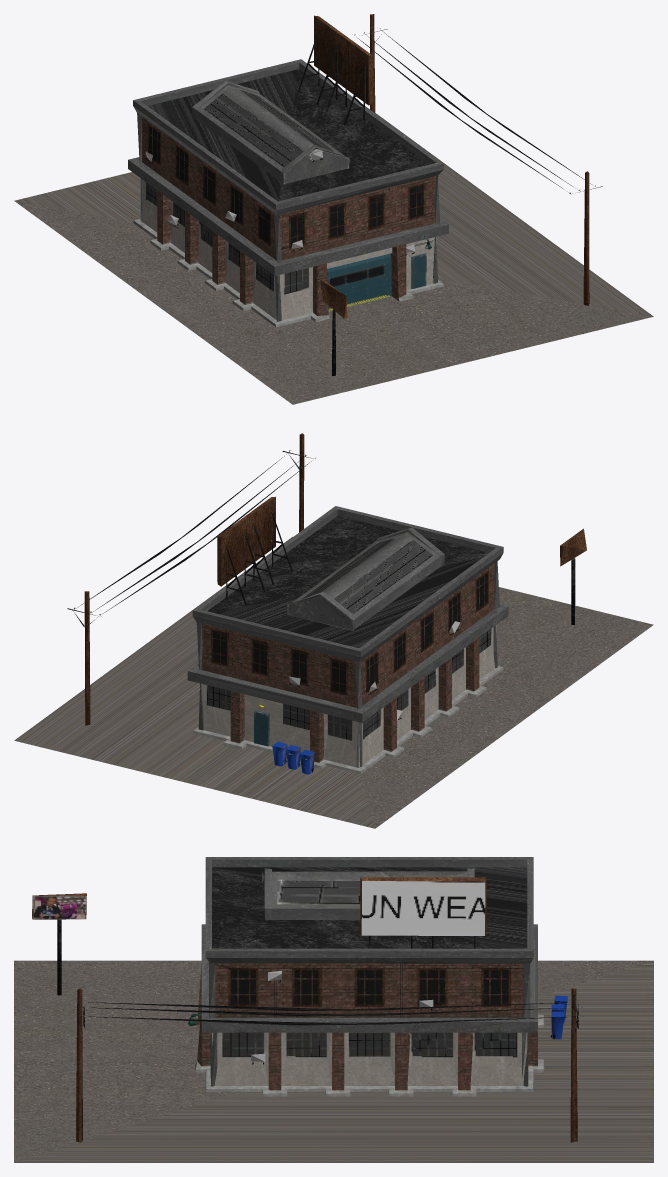
File: factory_sewing_lod1.glb
3 renders of one model, top to bottom at view 1: azimuth 30°, elevation 25°; view 2: azimuth 150°, elevation 25°; view 3: azimuth 270°, elevation 25°, orthographic. The views are drawn at different scales.
Parts seen in each view (by area): view 1: factory_sewing; view 2: factory_sewing; view 3: factory_sewing.
Part boxes in pixels (x1=…): factory_sewing: x1=14, y1=14, x2=653, y2=404; factory_sewing: x1=14, y1=433, x2=653, y2=828; factory_sewing: x1=14, y1=857, x2=653, y2=1162.
Bounding box in the file's own units: 20.5 × 9.96 × 27.4.
1 material, 1 textured.
